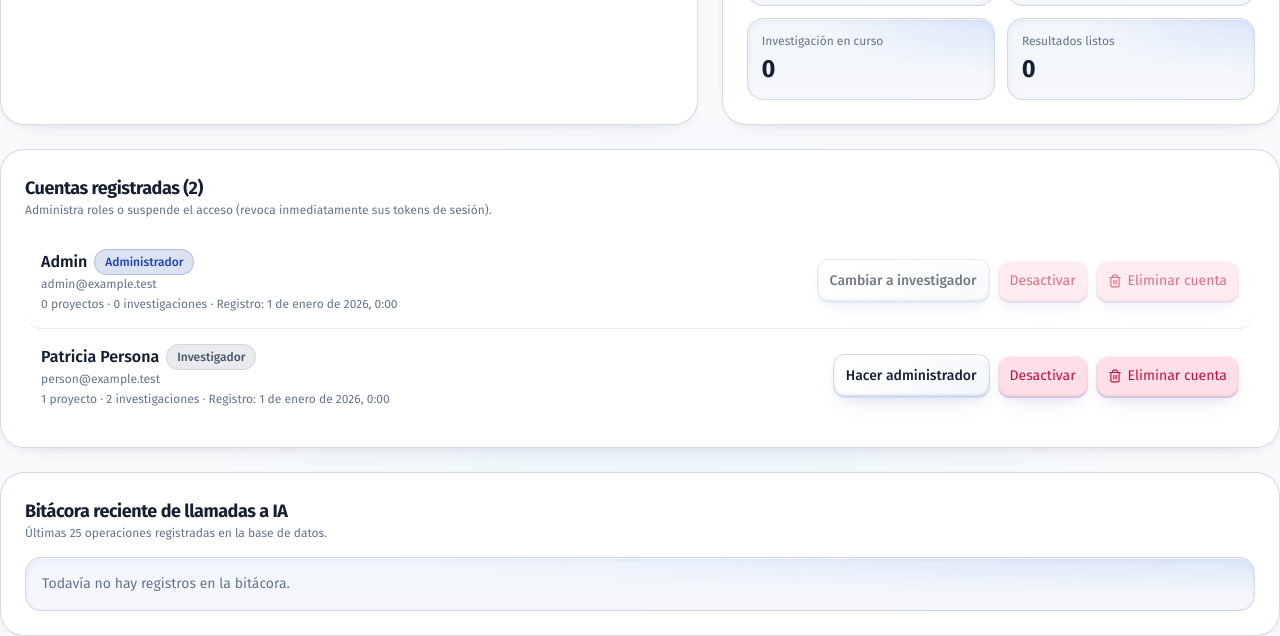
Test: Administración de cuentas › pide confirmación antes de eliminar una cuenta y actualiza la lista
(page scrolled)
Click the button "Eliminar cuenta" in the row of "Patricia Persona". click: point(1167, 376)
box: x1=1096 y1=354 x2=1239 y2=398
(page scrolled)
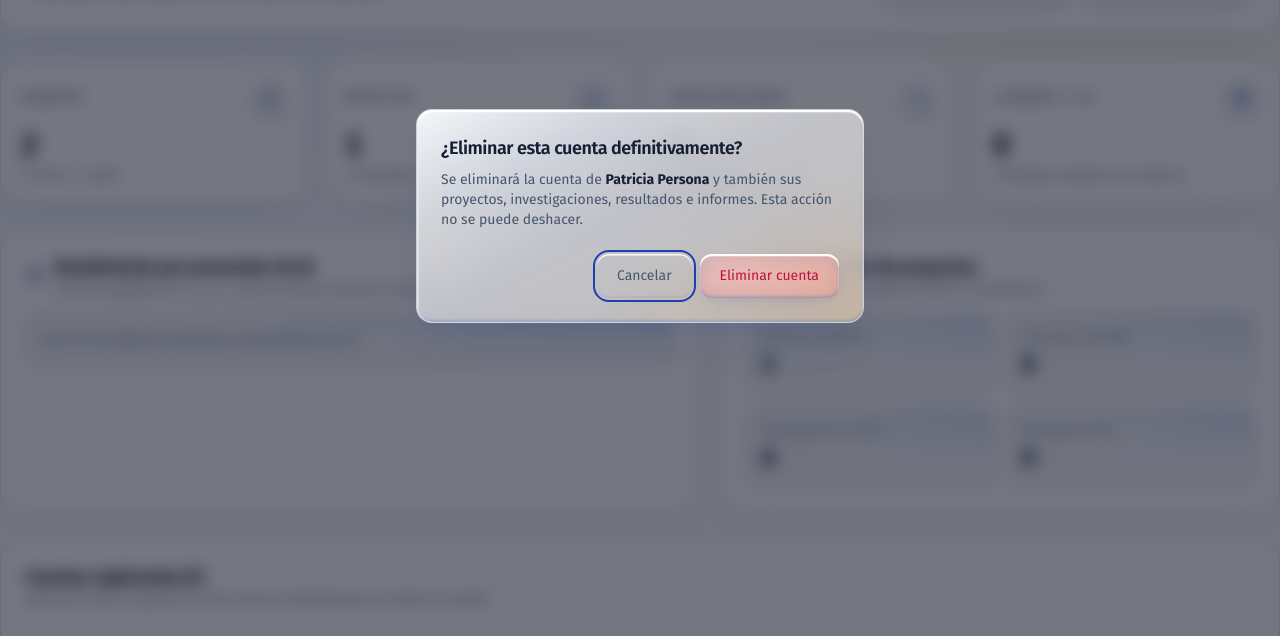
Now the text "proyectos, investigaciones, resultados e informes" is shown, box x1=441 y1=171 x2=832 y2=228
Click the button "Eliminar cuenta". click: point(769, 276)
box: x1=700 y1=254 x2=839 y2=298
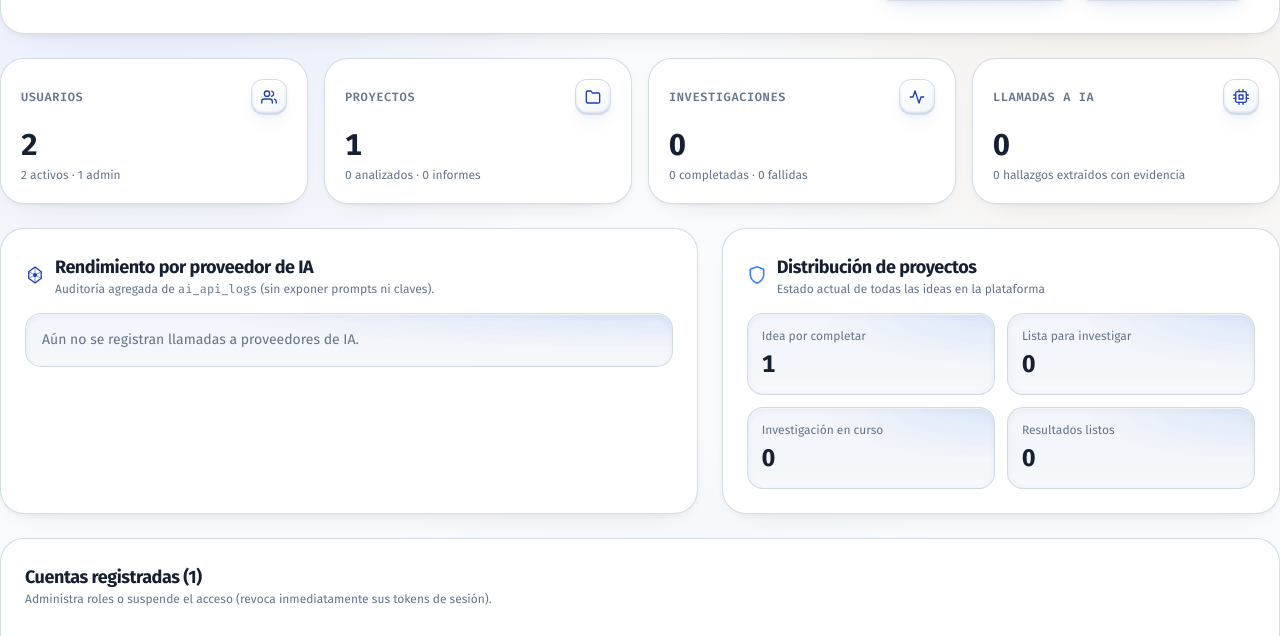
Now the text "Patricia Persona" is gone
